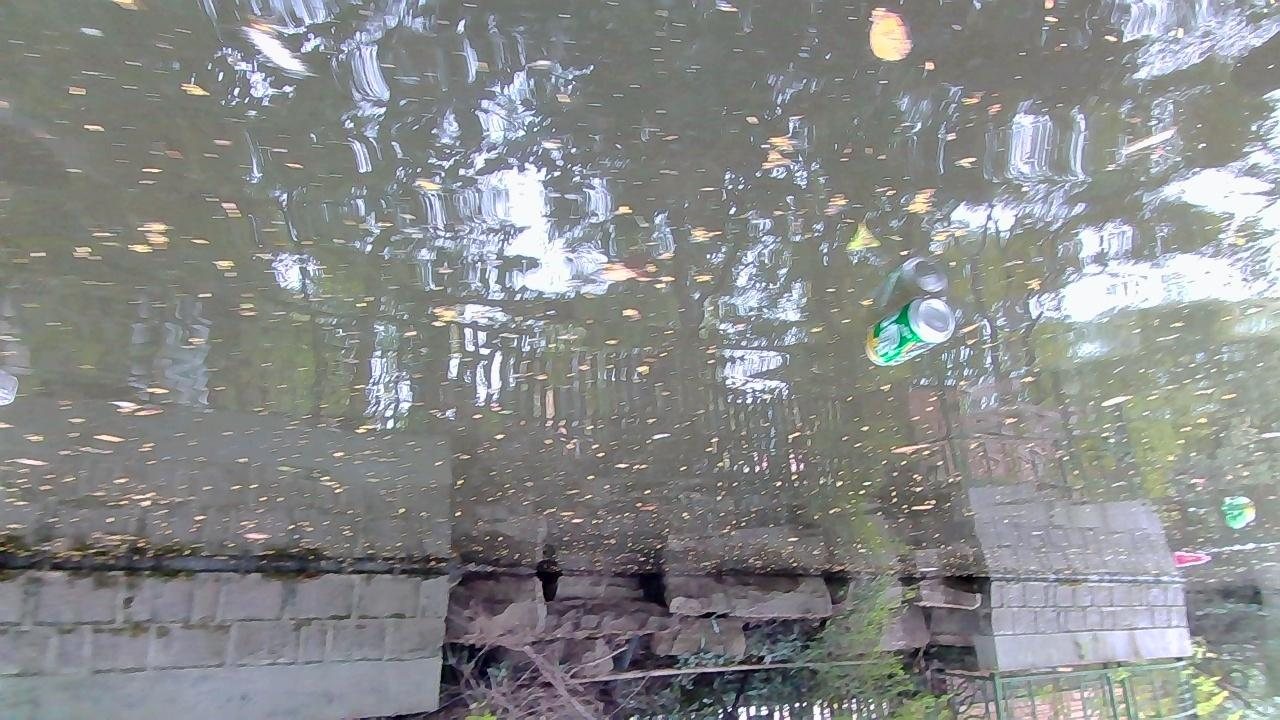Metal: (863, 295, 956, 368)
